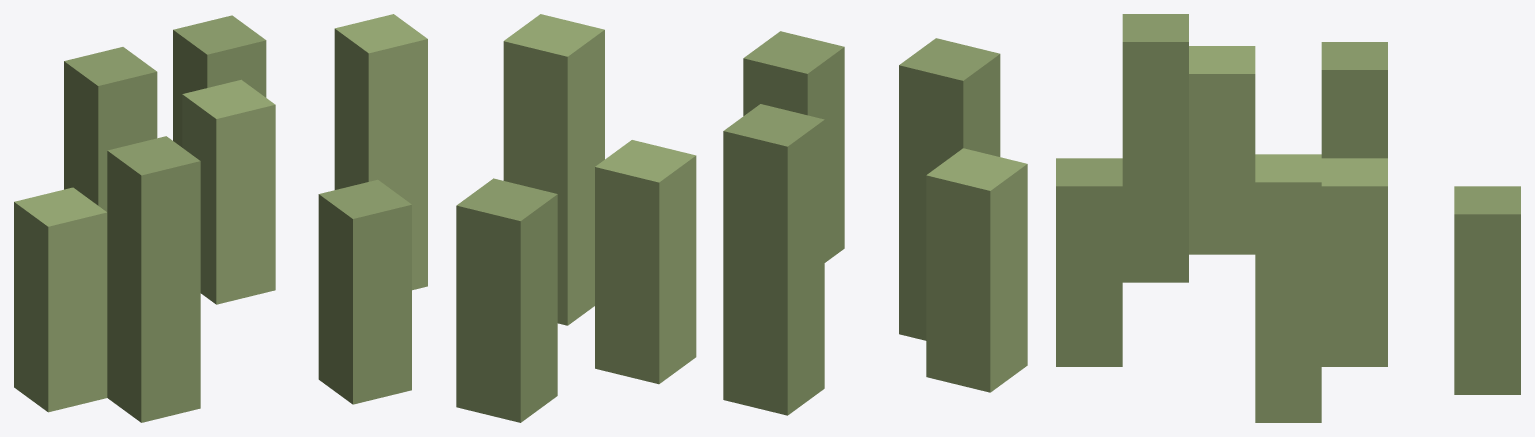
File: junco_01.glb
3 renders of one model, left to right at view 1: azimuth 30°, elevation 25°; view 2: azimuth 150°, elevation 25°; view 3: azimuth 270°, elevation 25°, orthographic. The views are drawn at different scales.
Visible parts, largest first — view 1: junco_01; view 2: junco_01; view 3: junco_01.
Boxes of the visible parts, x1,y1,x2,y2 form: junco_01: (14, 14, 427, 422); junco_01: (456, 14, 1027, 422); junco_01: (1056, 14, 1520, 422).
Bounding box in the file's own units: 0.7 × 0.4 × 0.7.
